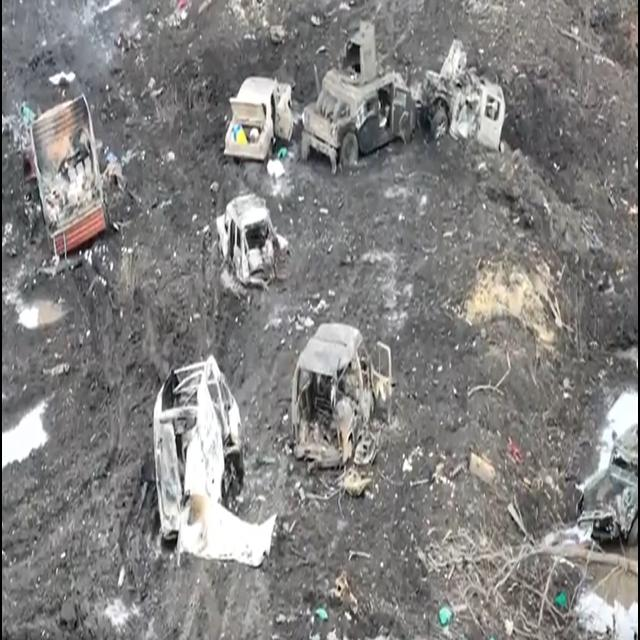Destroyed: (151, 356, 249, 563), (287, 317, 396, 476), (31, 82, 108, 260), (419, 55, 506, 156), (578, 419, 640, 539), (211, 192, 283, 287)
Vehicle: (301, 26, 416, 170), (223, 67, 296, 173)
